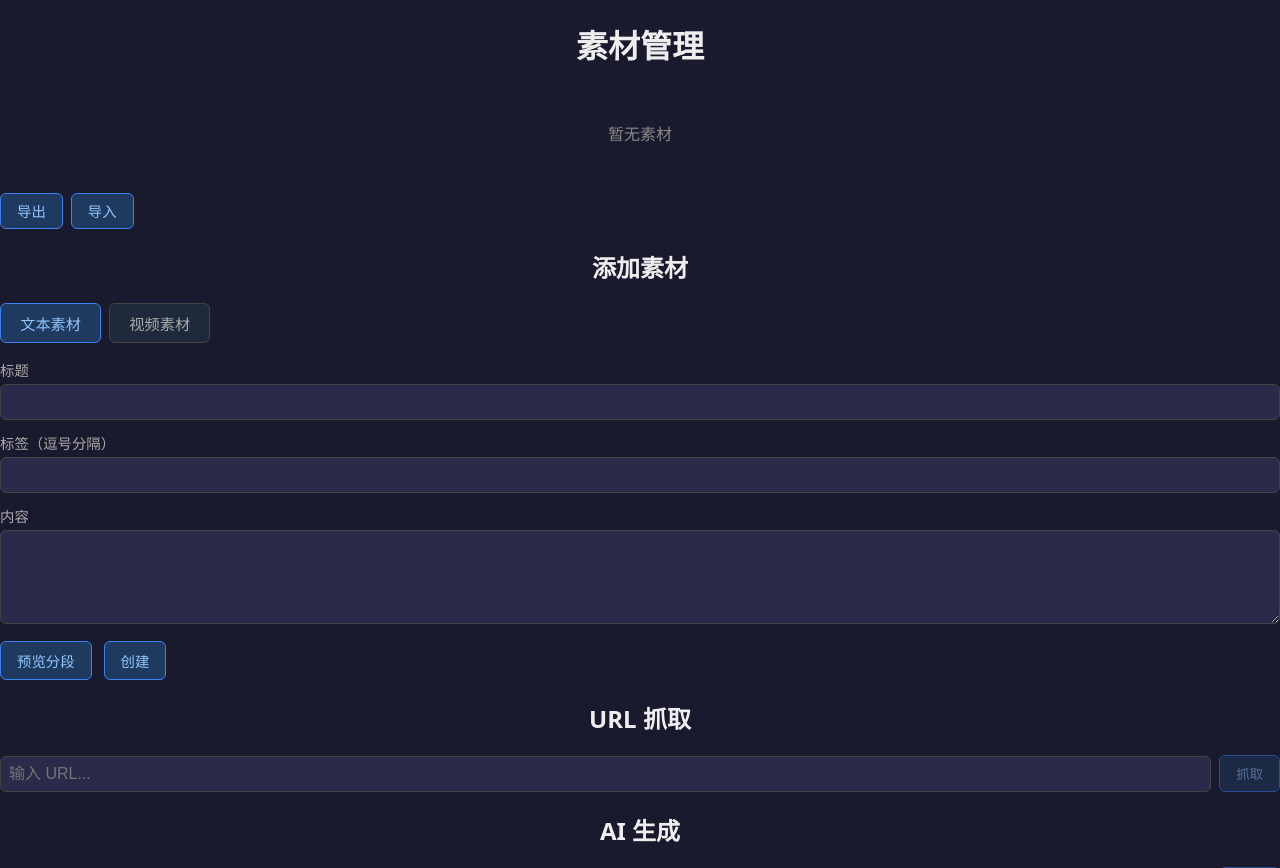
Test: AdminPage — create › create form submits and refreshes list
# Fill the form.
Type "新素材" into the field named "title" below "标题".
click(640, 402); type("新素材")  # box [0,384,1279,420]
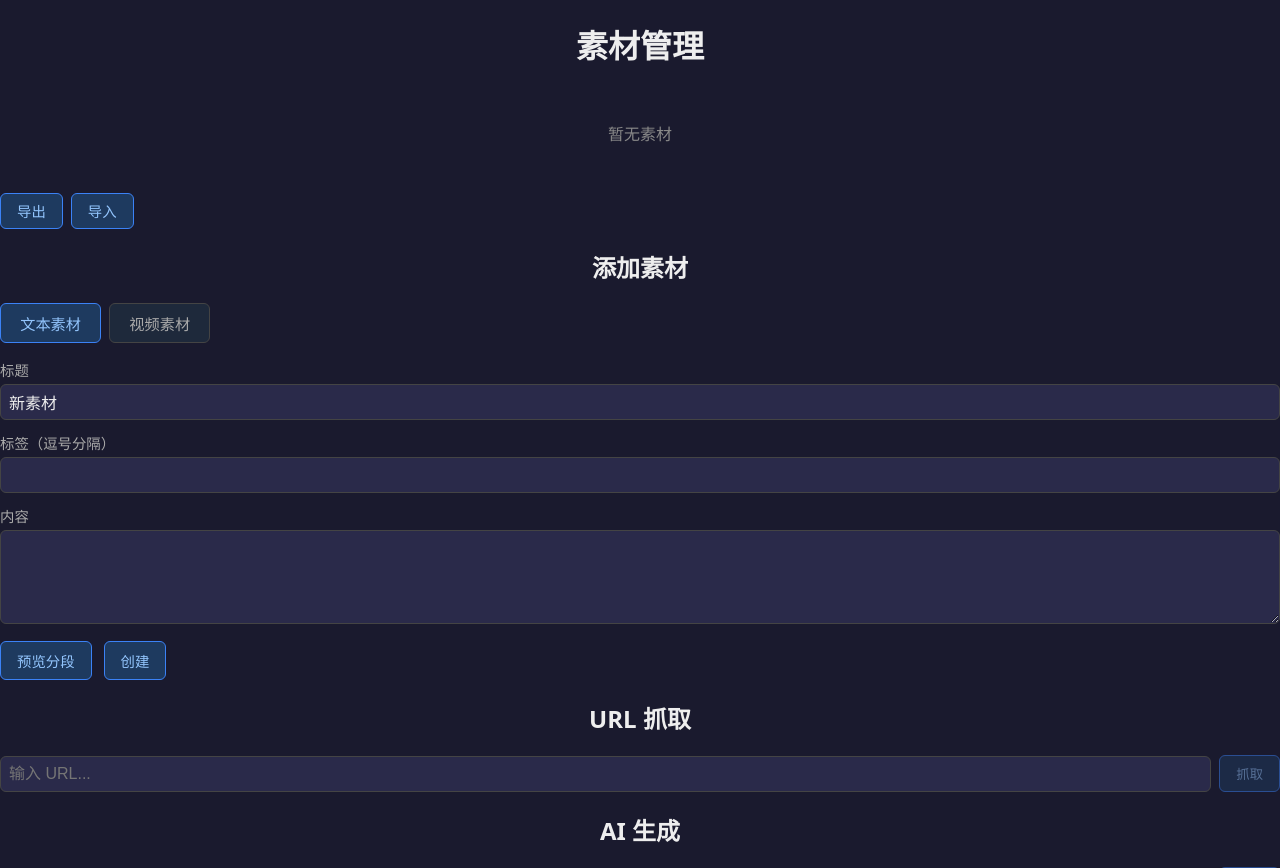
Type "test" into the field named "tags" below "标签（逗号分隔）".
click(640, 476); type("test")  # box [0,458,1279,494]
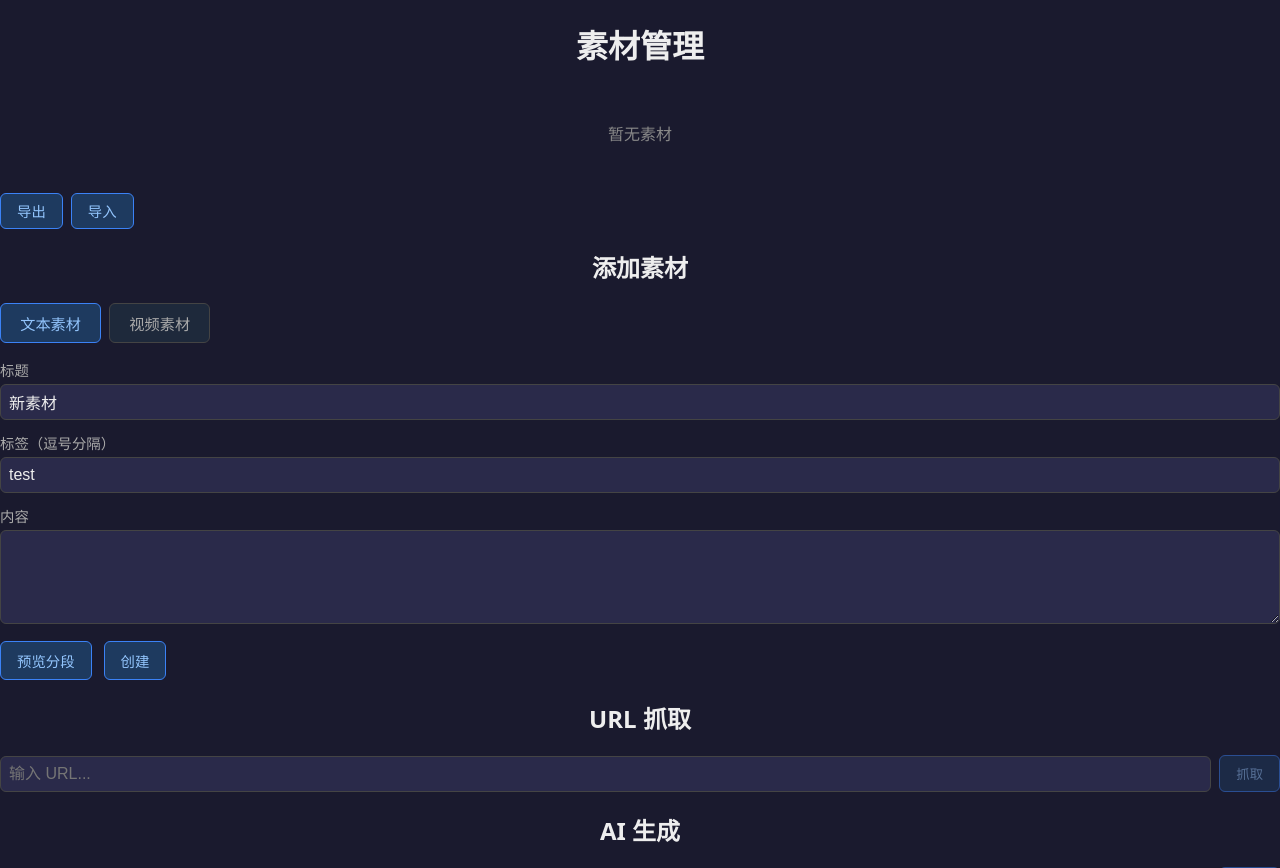
Type "测试内容。很好。" into the text box named "content".
click(640, 578); type("测试内容。很好。")  # box [0,530,1279,624]
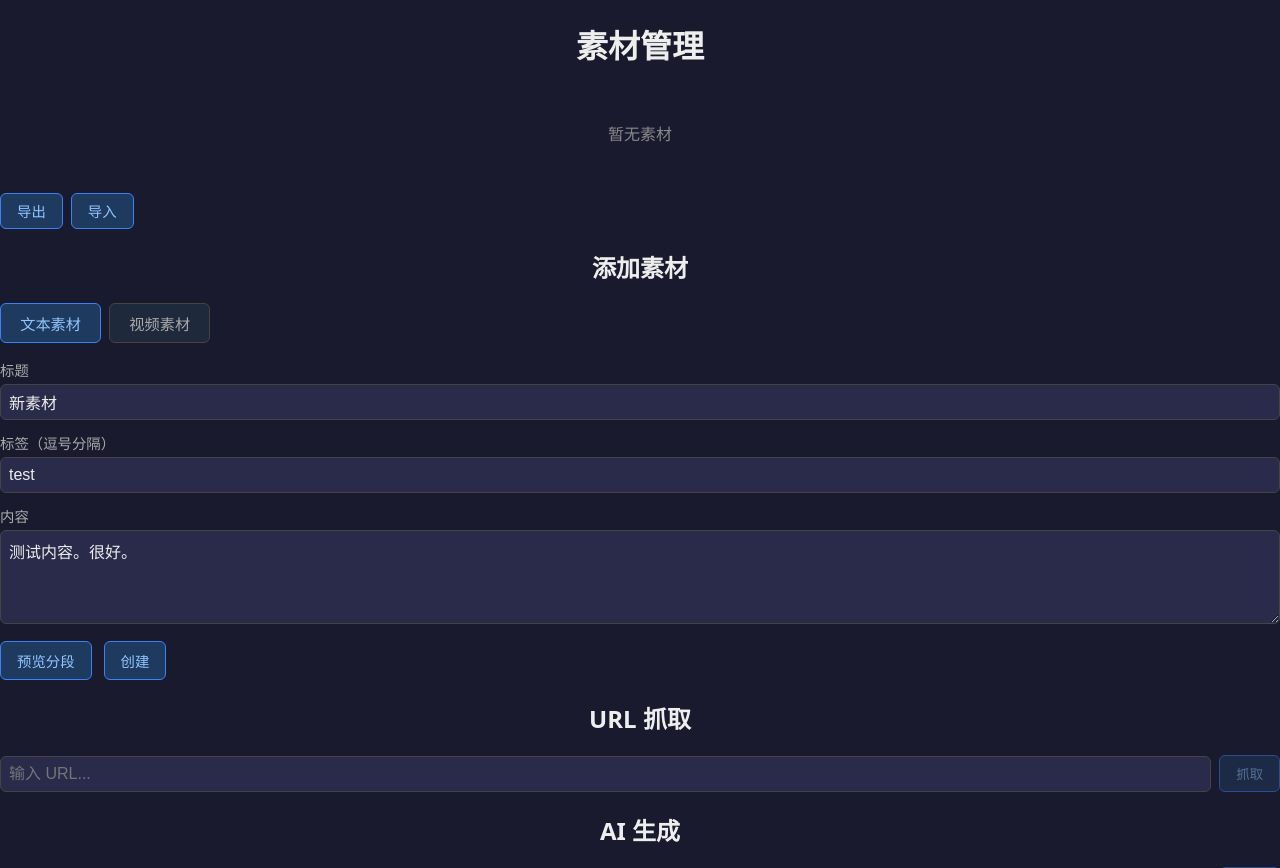
Submit the form with class "create-form", box [0,360,1279,680]
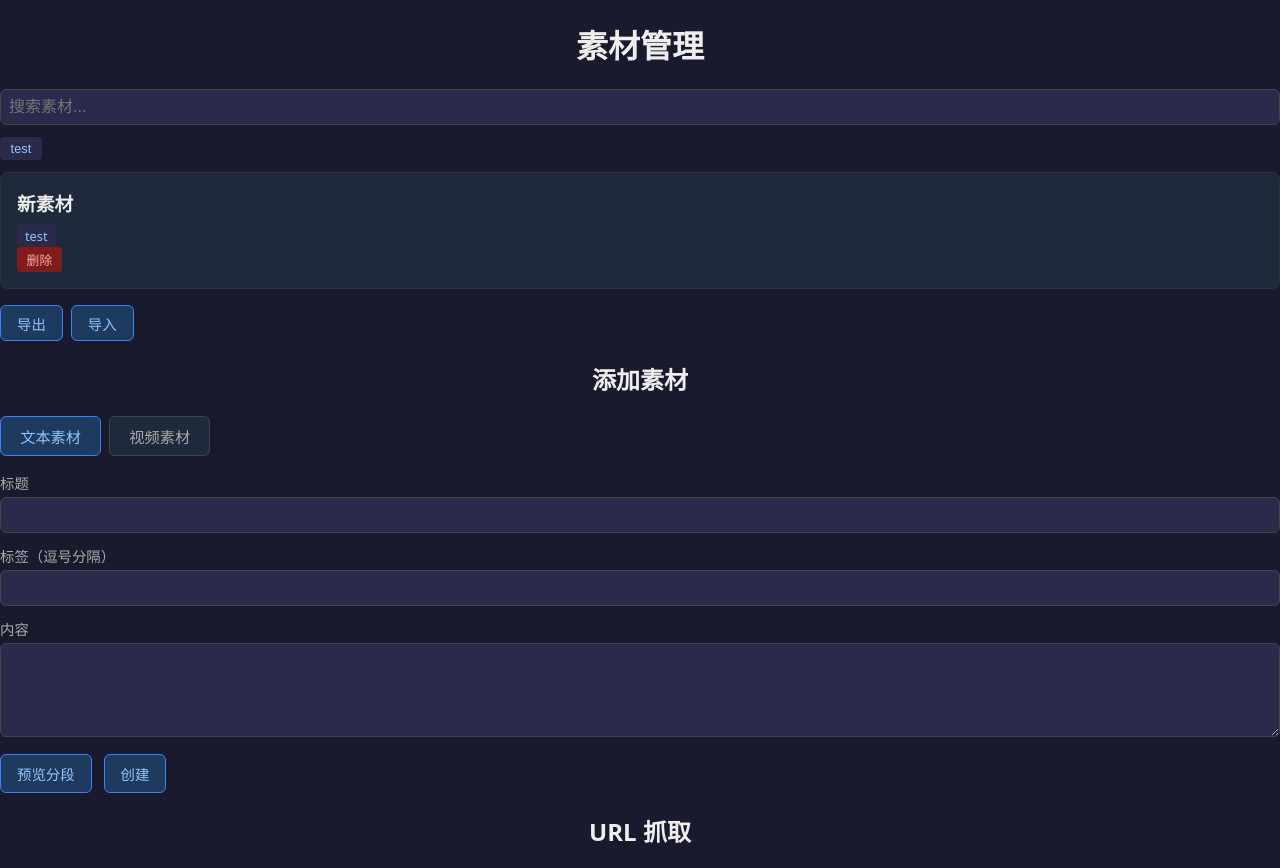
Expected: the text "新素材" is shown, [17,191,73,216]
